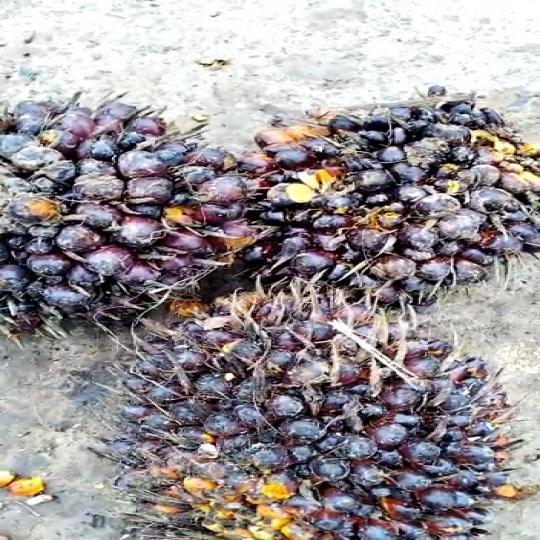kurang masak: (86, 291, 531, 540), (243, 61, 540, 298), (0, 93, 268, 339)
